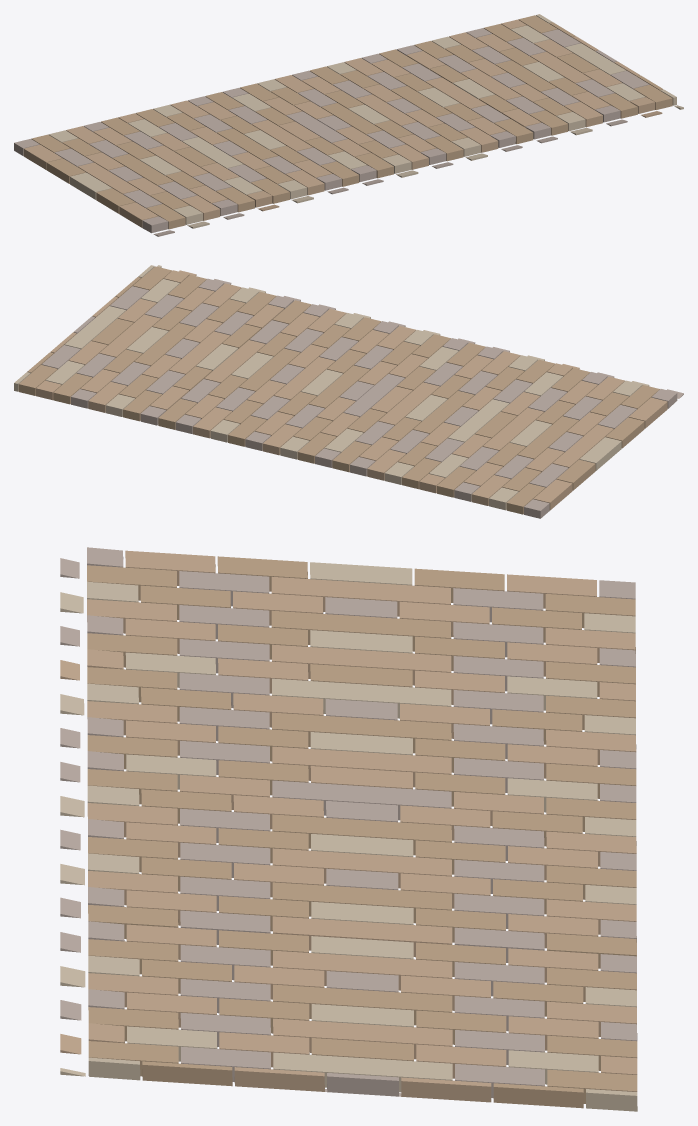
The model's file is Pathway1.glb.
3 views of the same model, one above another, from view 1: azimuth 30°, elevation 25°; view 2: azimuth 150°, elevation 25°; view 3: azimuth 270°, elevation 25° (orthographic). The views are drawn at different scales.
Visible parts, largest first — view 1: Mesh_Mesh_head_geo.001_lambert2SG.001; view 2: Mesh_Mesh_head_geo.001_lambert2SG.001; view 3: Mesh_Mesh_head_geo.001_lambert2SG.001.
Boxes of the visible parts, x1,y1,x2,y2 form: Mesh_Mesh_head_geo.001_lambert2SG.001: [14, 14, 683, 236]; Mesh_Mesh_head_geo.001_lambert2SG.001: [14, 265, 683, 518]; Mesh_Mesh_head_geo.001_lambert2SG.001: [60, 547, 637, 1111].
Bounding box in the file's own units: 706 × 32.88 × 335.
